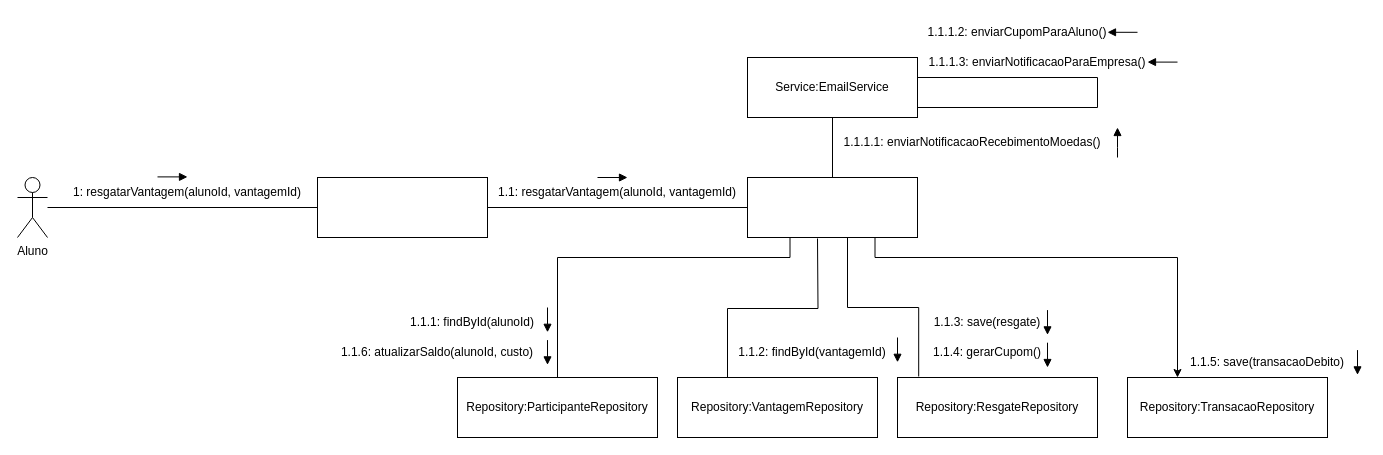
Some shapes in this 1383 by 455 pixel diagram are drawn without their labels. Each missing label, with the centre of its shape:
"Controller:ResgateController" belongs at pixel 402 207.
"Service:ResgateService" belongs at pixel 832 207.
